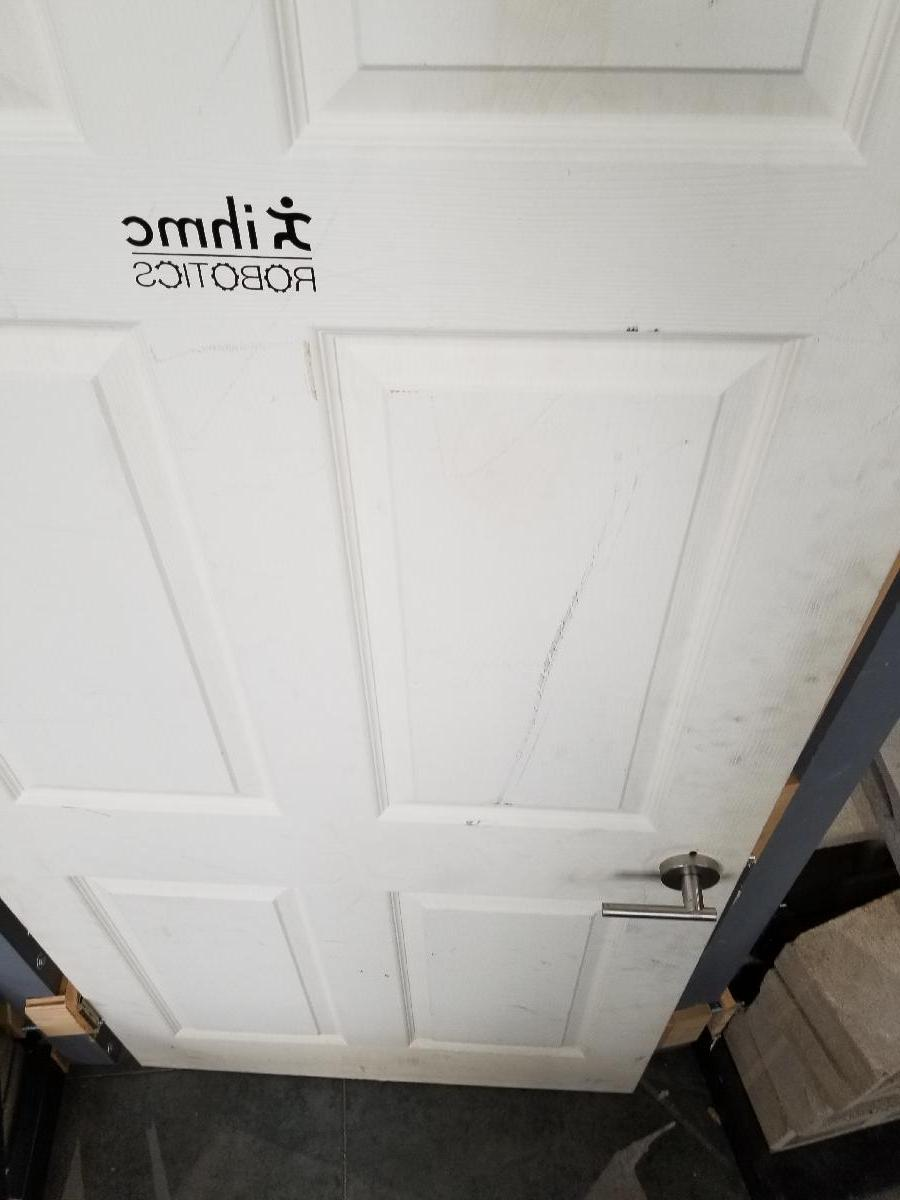door: (8, 5, 885, 1091)
handle: (596, 850, 734, 925)
